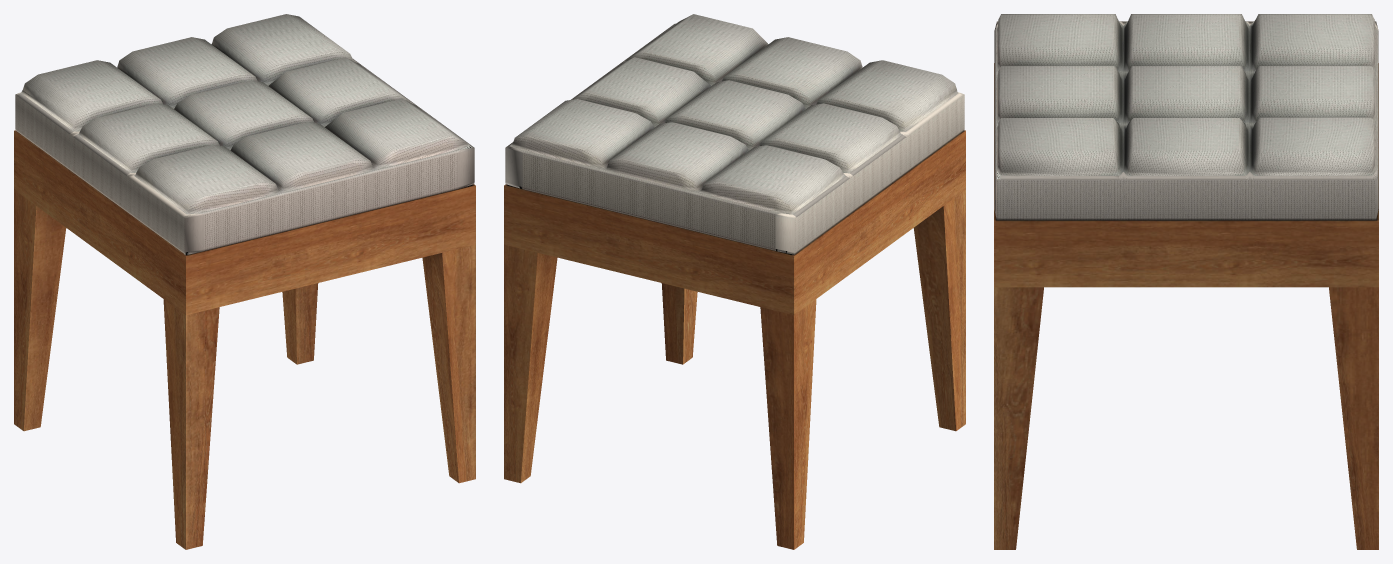
File: Cornet Stool.FBX
3 views of the same model, side by side, from view 1: azimuth 30°, elevation 25°; view 2: azimuth 150°, elevation 25°; view 3: azimuth 270°, elevation 25° (orthographic). The views are drawn at different scales.
Parts seen in each view (by area): view 1: Cornet Stool; view 2: Cornet Stool; view 3: Cornet Stool.
Part boxes in pixels (x1=…): Cornet Stool: x1=14, y1=14, x2=475, y2=549; Cornet Stool: x1=504, y1=14, x2=965, y2=549; Cornet Stool: x1=994, y1=14, x2=1378, y2=549.
Bounding box in the file's own units: 0.5815 × 0.6641 × 0.5965.
1 material, 1 textured.
